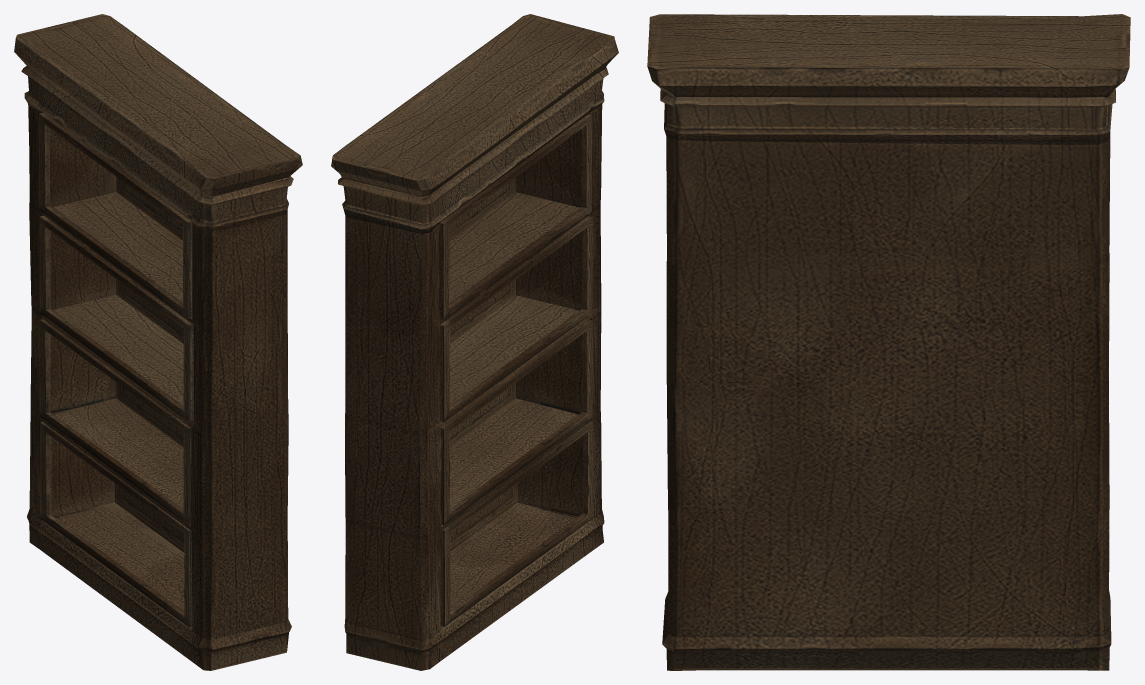
File: Bookshelf.fbx
3 renders of one model, left to right at view 1: azimuth 30°, elevation 25°; view 2: azimuth 150°, elevation 25°; view 3: azimuth 270°, elevation 25°, orthographic. The views are drawn at different scales.
Parts seen in each view (by area): view 1: Bookshelf; view 2: Bookshelf; view 3: Bookshelf.
Part boxes in pixels (left/top/right/bottom): Bookshelf: left=14, top=14, right=302, bottom=670; Bookshelf: left=331, top=14, right=618, bottom=670; Bookshelf: left=647, top=14, right=1130, bottom=670.
Size of the model in its own units: 3.56 by 16.62 by 11.97.
